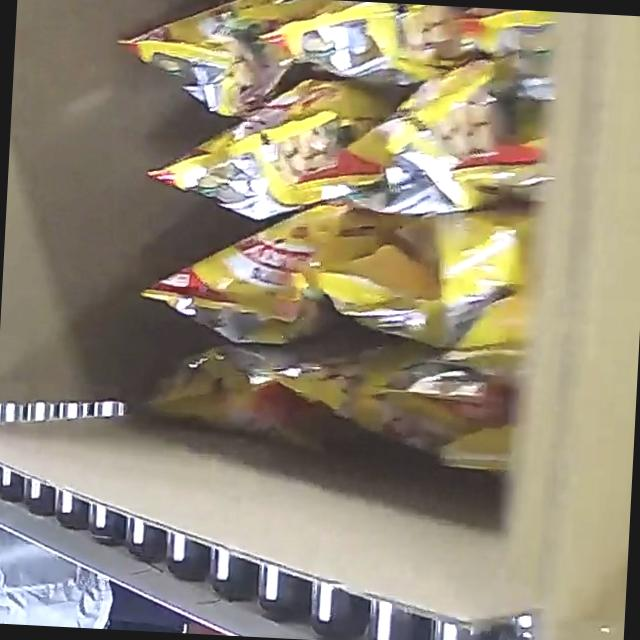salted: (93, 0, 559, 473)
